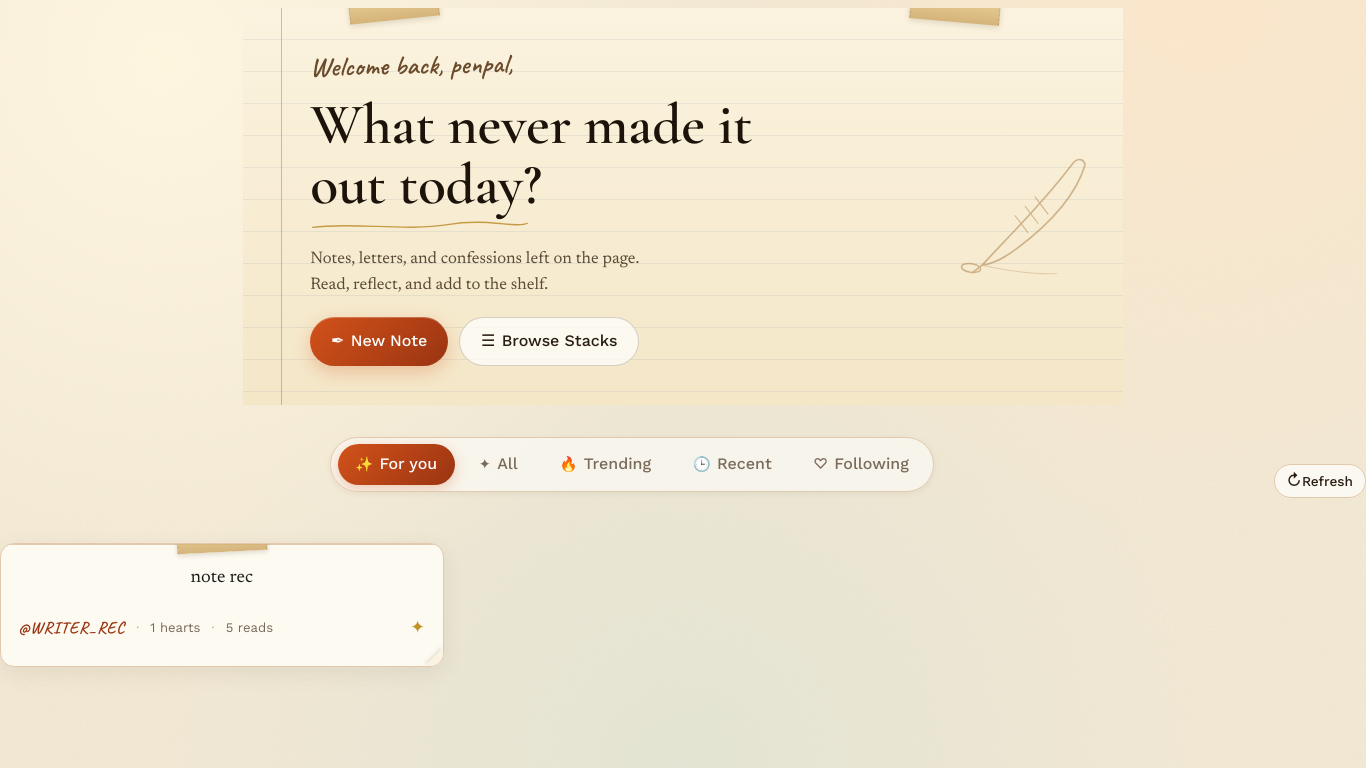
it: HomePage › signed in › shows the follow-someone copy when the Following feed is empty
Expected: the text "note rec" is shown, [190,568,253,587]
What coordinates should you click on to do the following:
click the button "♡ Following"
I would click on:
 (861, 464)
Its box is [796,444,926,485].
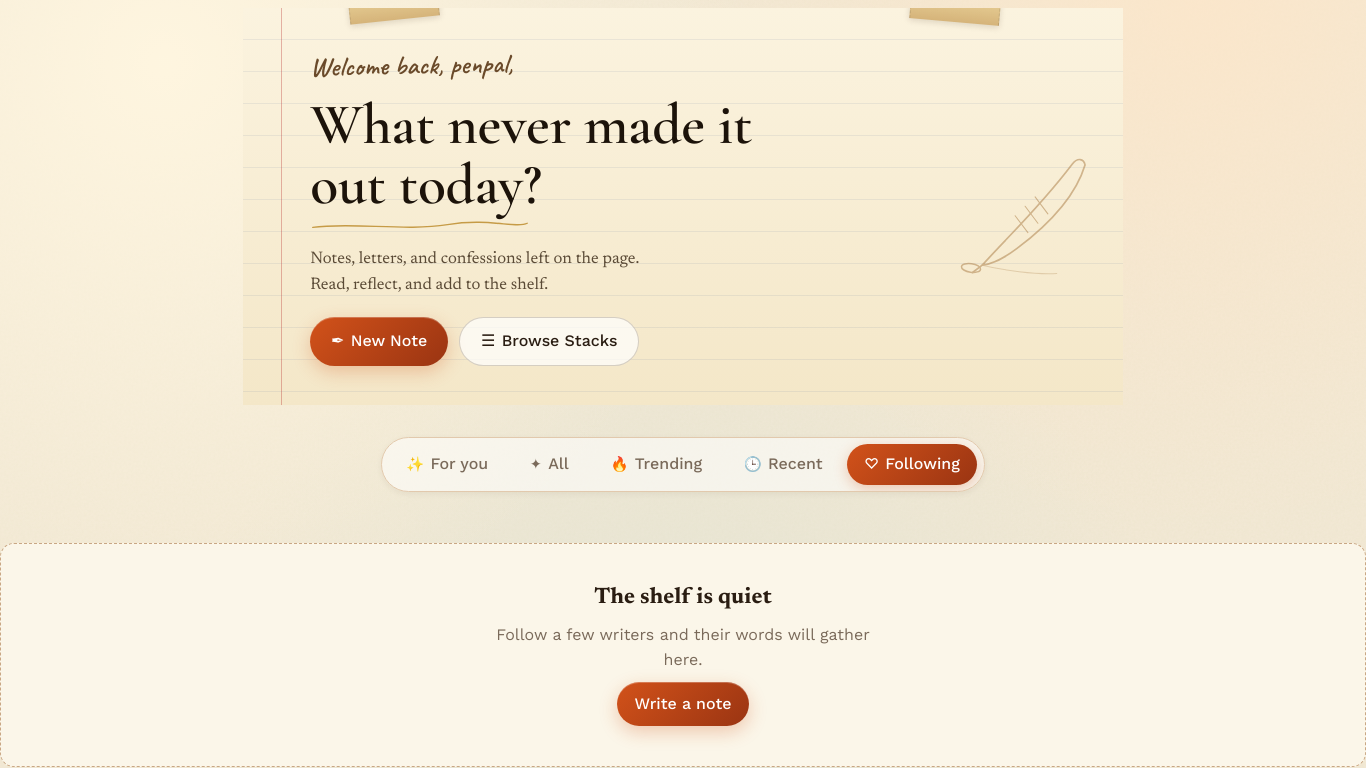
Expected: the heading "The shelf is quiet" is shown, [594,584,772,614]
Expected: the text "Follow a few writers and their words will gather here." is shown, [493,623,873,673]
